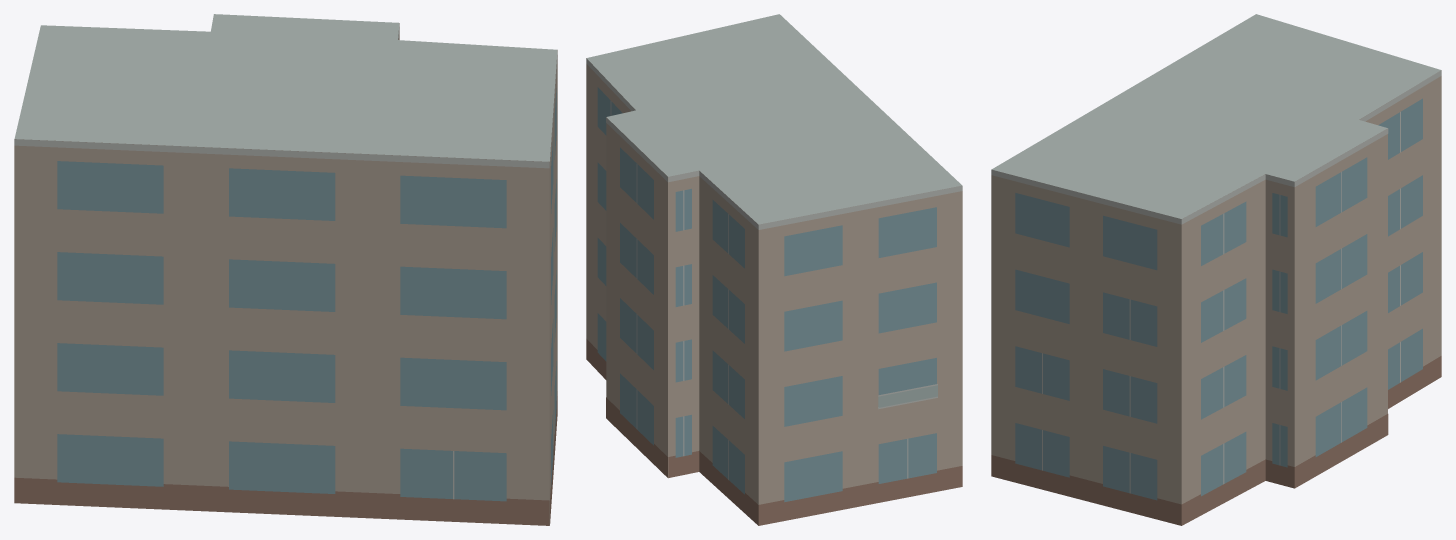
File: survey-upis-32469455.glb
3 renders of one model, left to right at view 1: azimuth 30°, elevation 25°; view 2: azimuth 150°, elevation 25°; view 3: azimuth 270°, elevation 25°, orthographic. The views are drawn at different scales.
Parts seen in each view (by area): view 1: survey-upis-32469455.tmp; view 2: survey-upis-32469455.tmp; view 3: survey-upis-32469455.tmp.
Boxes of the visible parts, x1,y1,x2,y2 form: survey-upis-32469455.tmp: [14, 14, 557, 525]; survey-upis-32469455.tmp: [586, 14, 962, 525]; survey-upis-32469455.tmp: [991, 14, 1441, 525].
Size of the model in its own units: 19.29 by 13.45 by 17.9.
